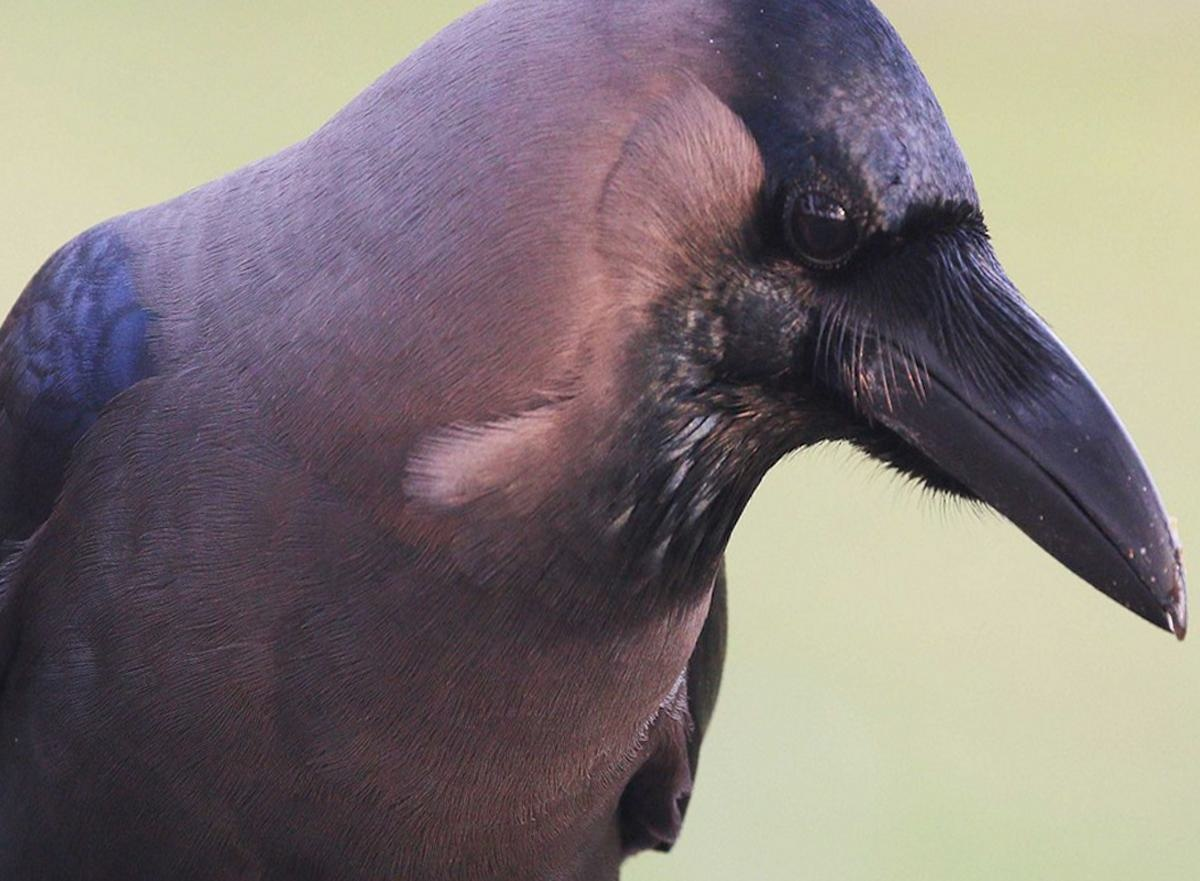crow: (1, 1, 1154, 881)
